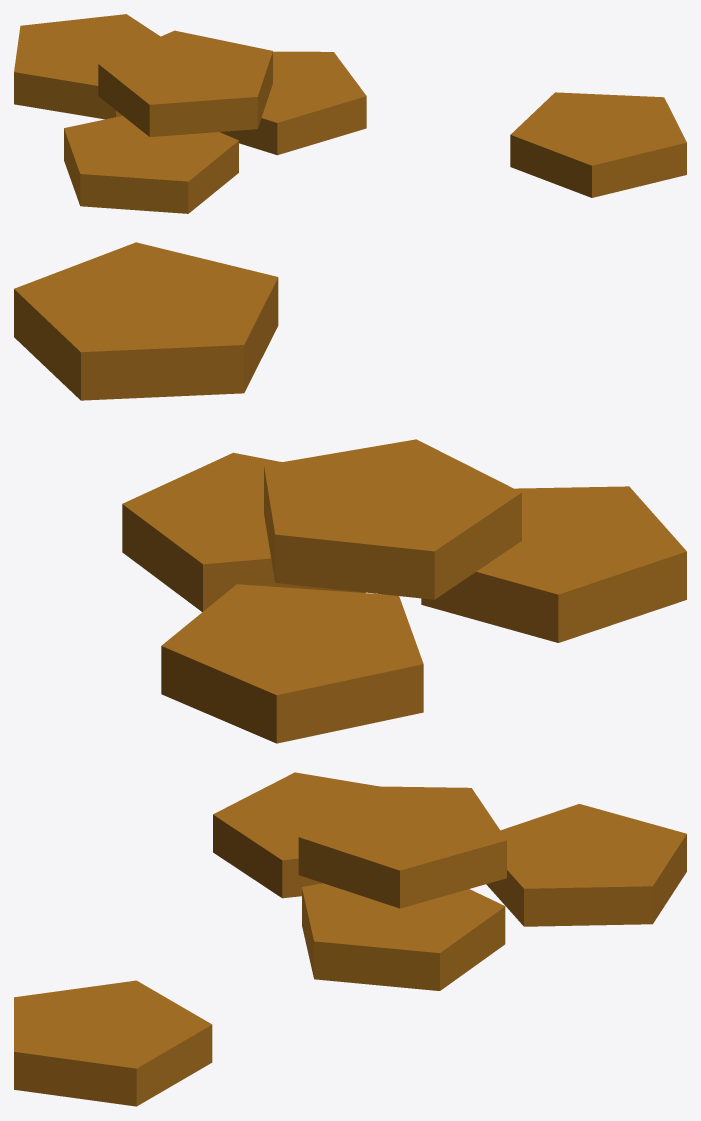
File: CoinPile2.fbx
3 renders of one model, top to bottom at view 1: azimuth 30°, elevation 25°; view 2: azimuth 150°, elevation 25°; view 3: azimuth 270°, elevation 25°, orthographic. The views are drawn at different scales.
Visible parts, largest first — view 1: CoinPile2; view 2: CoinPile2; view 3: CoinPile2.
Boxes of the visible parts, x1,y1,x2,y2 form: CoinPile2: (14, 14, 686, 213); CoinPile2: (14, 242, 686, 743); CoinPile2: (14, 772, 686, 1106).
Bounding box in the file's own units: 38.51 × 4.6 × 36.97.
